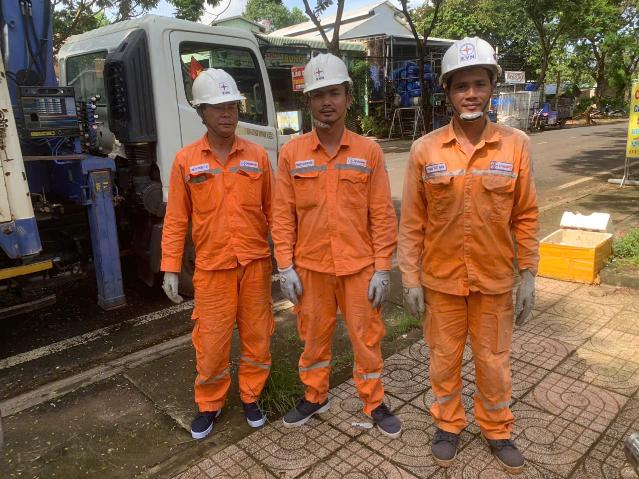gloves: (514, 257, 542, 332), (354, 264, 396, 313), (399, 270, 434, 324), (269, 266, 307, 309), (153, 272, 189, 310)
helmet: (434, 29, 504, 78), (301, 42, 356, 98), (189, 60, 248, 109)
shoes: (477, 423, 534, 479), (279, 388, 338, 435), (426, 419, 470, 479), (361, 399, 417, 445), (190, 396, 237, 440), (234, 396, 274, 428)
